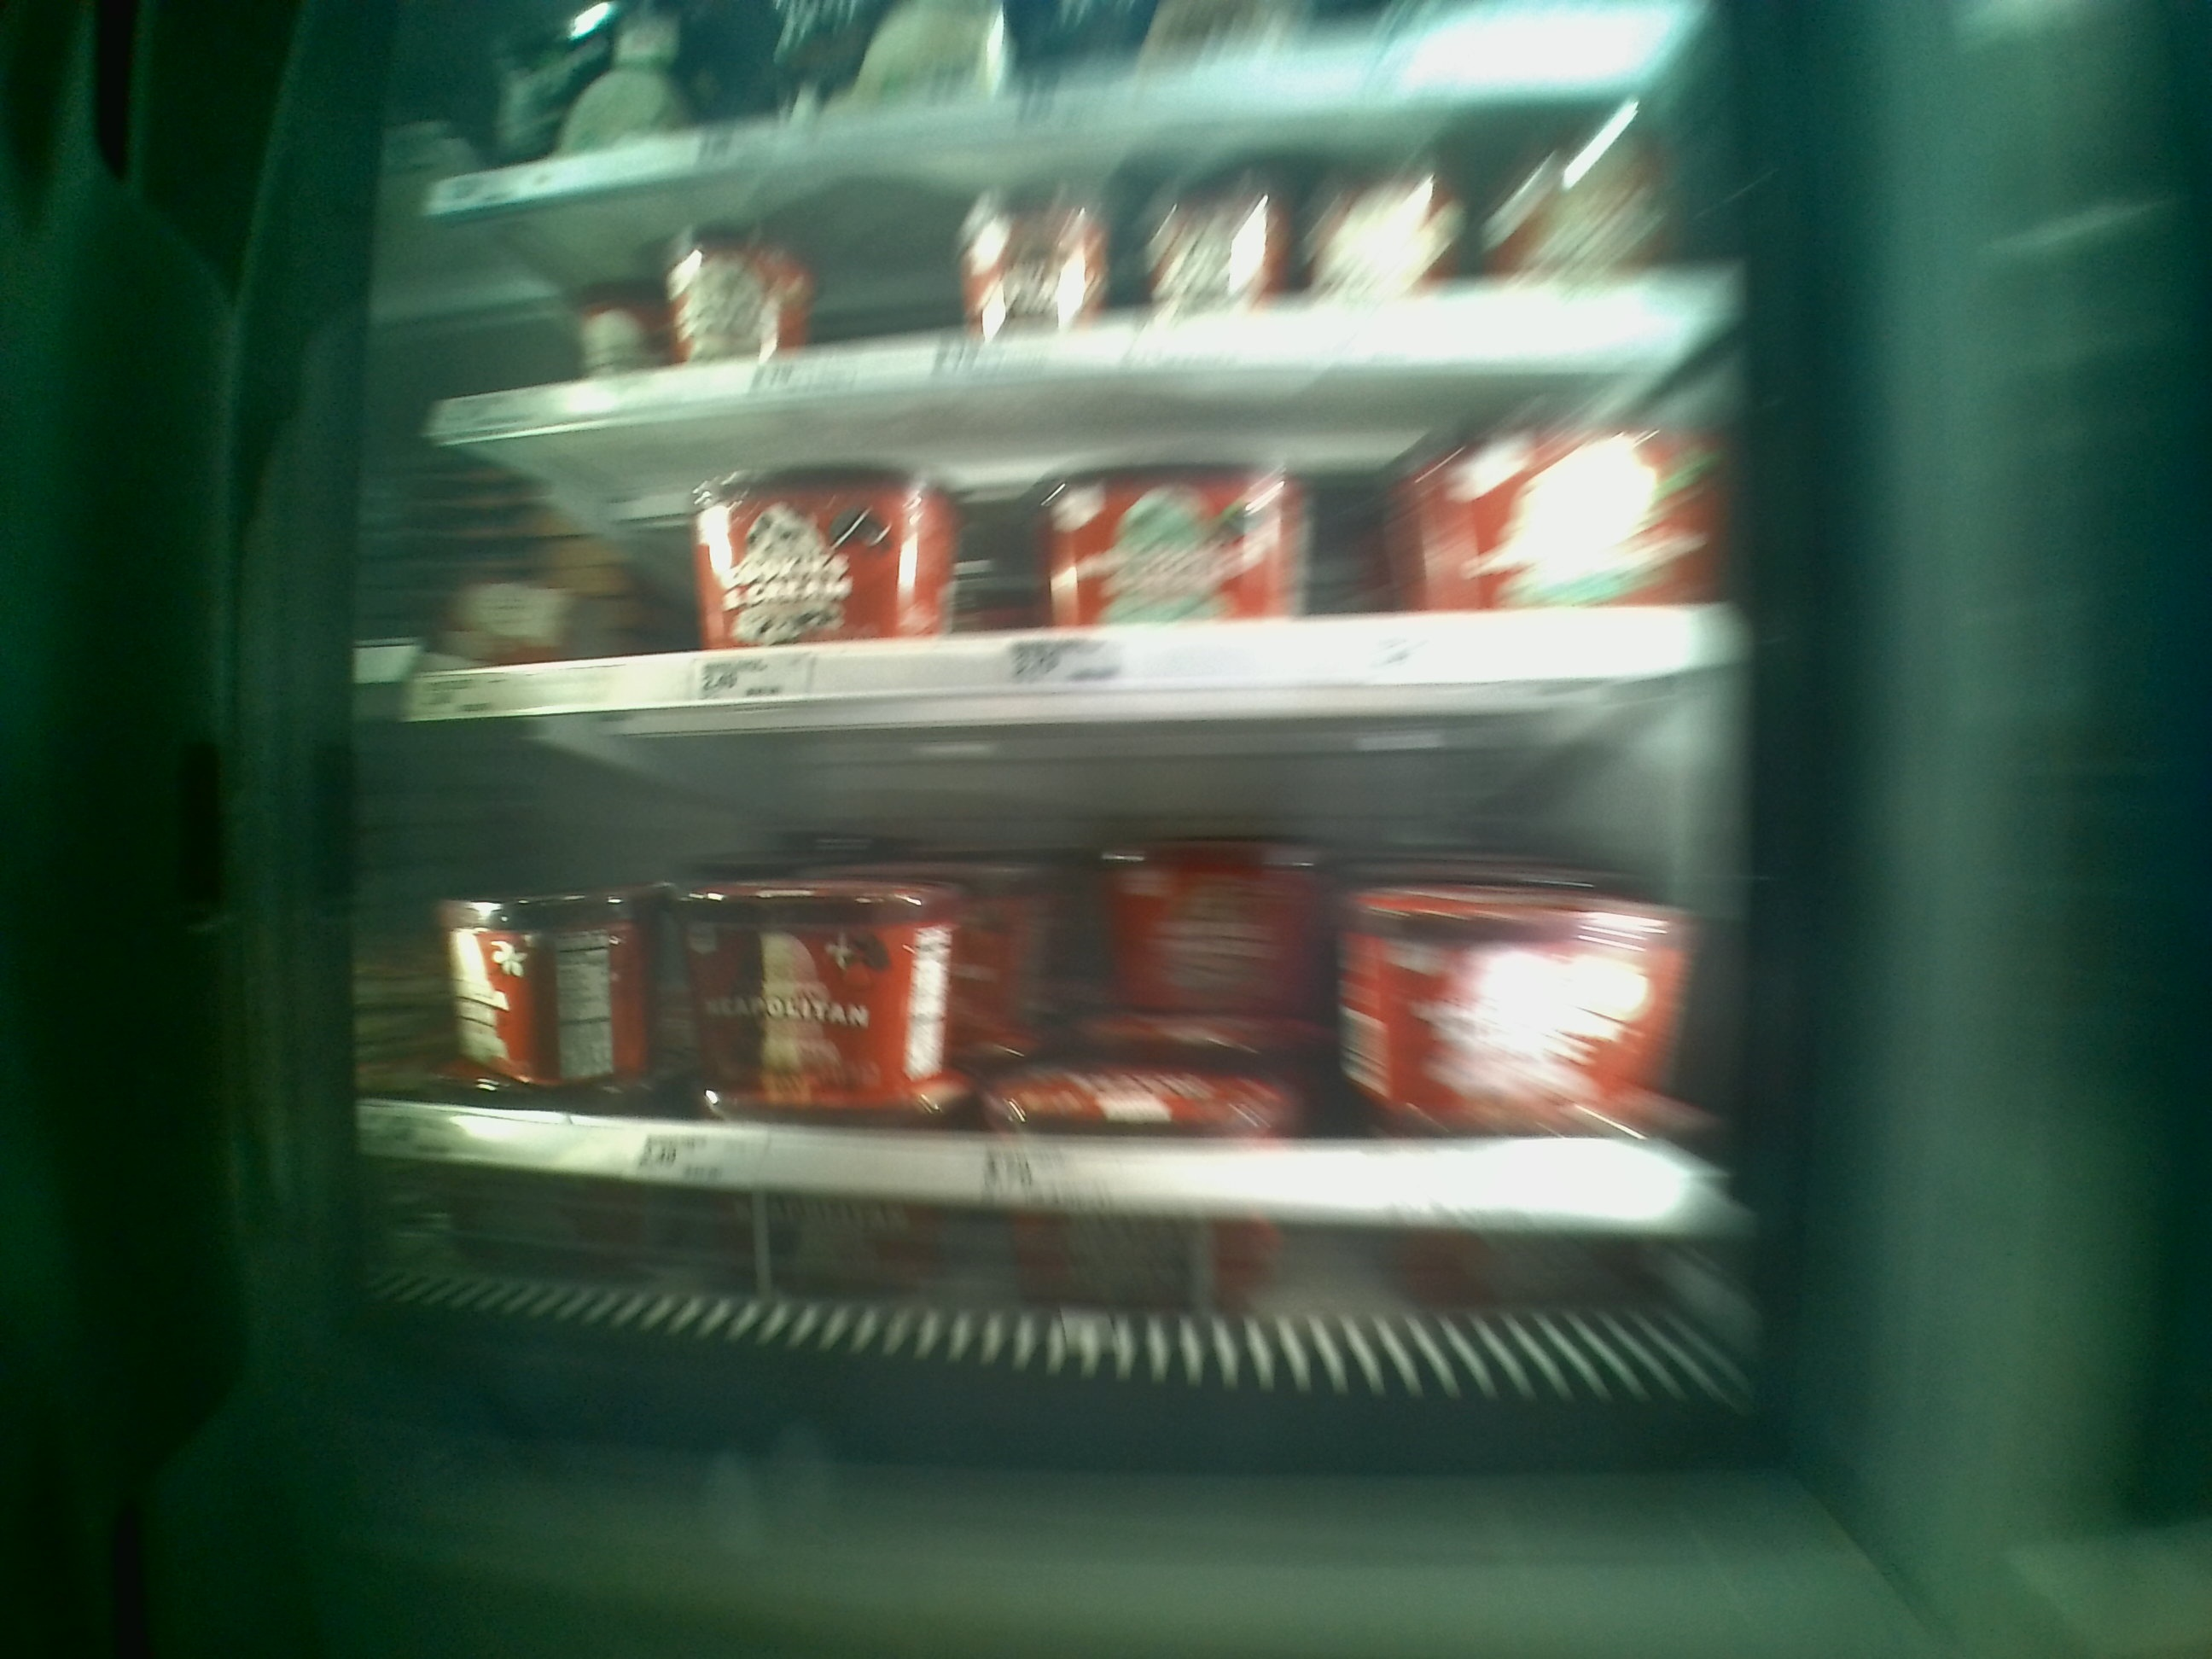shelf: (409, 683, 1764, 1326), (415, 335, 1761, 728)
